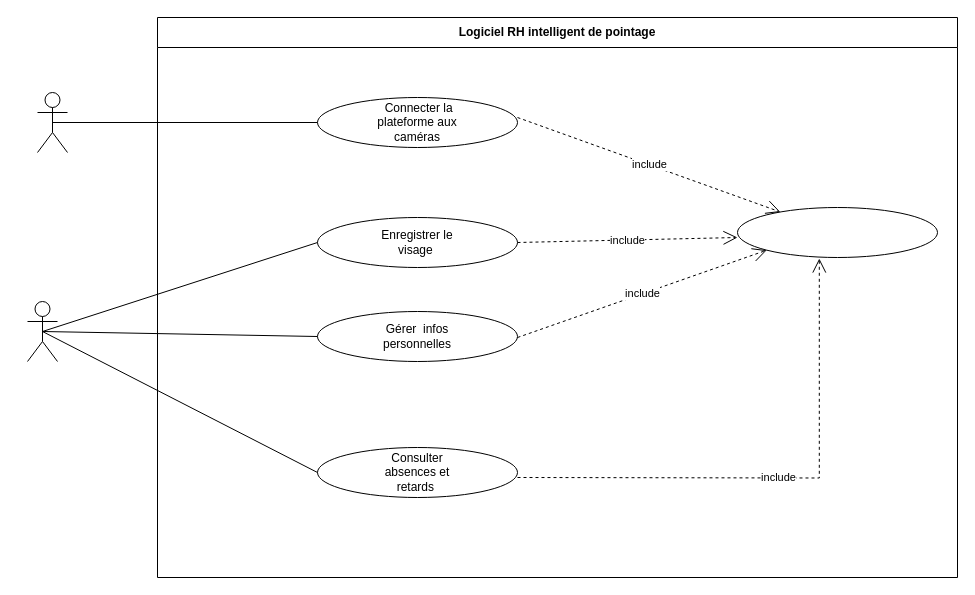
The diagram is 975 pixels wide and 595 high, and some of its shapes have lost their labels. The centre of each missing label's shape, as x and y in pixels:
Employé: the point at 42,331
Responsable RH: the point at 52,122
S’authentifier: the point at 837,232
